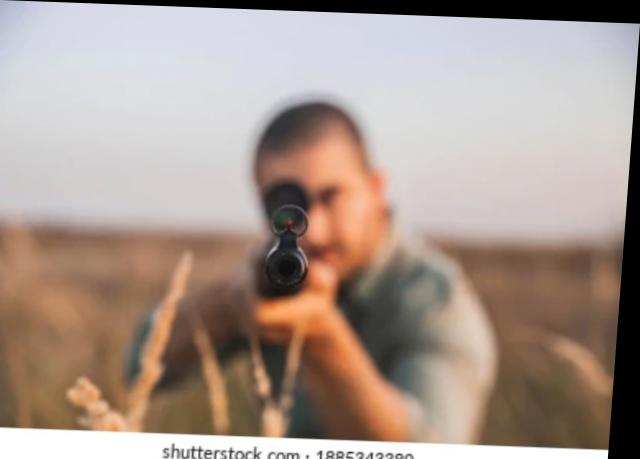other: (148, 91, 510, 438)
